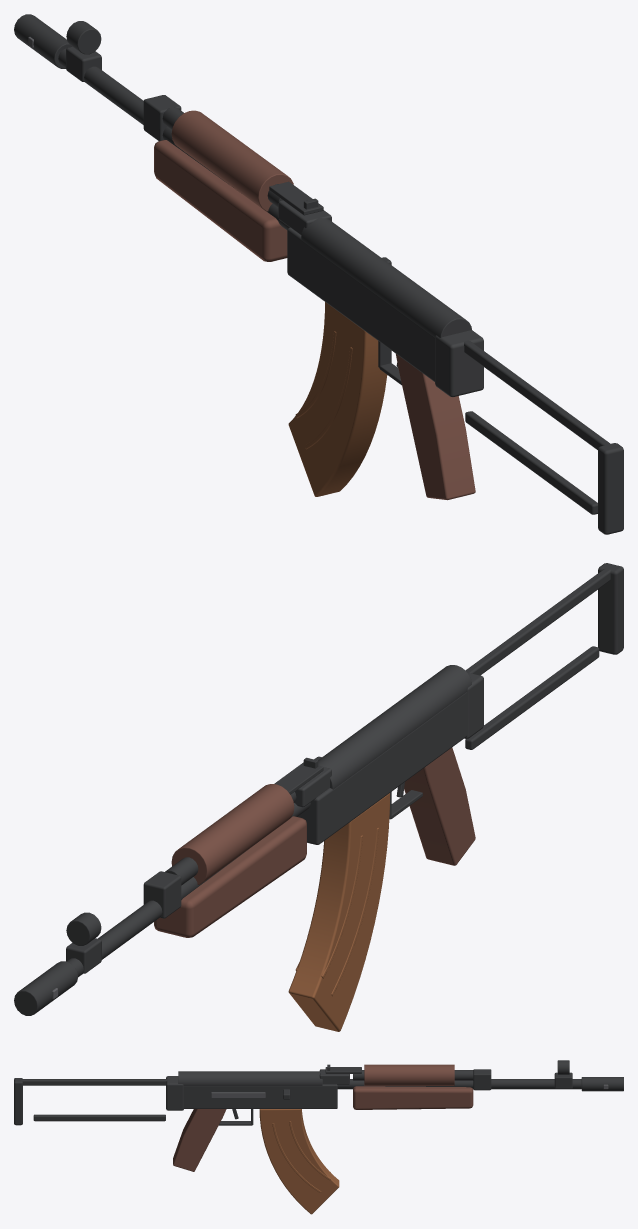
3 views of the same model, one above another, from view 1: azimuth 30°, elevation 25°; view 2: azimuth 150°, elevation 25°; view 3: azimuth 270°, elevation 25° (orthographic). The views are drawn at different scales.
Visible parts, largest first — view 1: Mag_body, Receiver, Grip, LowerHandguard, DustCover, UpperHandguard, RearTrunnion, FoldStockTop, FoldStockPad, FoldStockBottom, Barrel, MuzzleBrake (+5 smaller); view 2: Mag_body, Receiver, LowerHandguard, DustCover, Grip, UpperHandguard, FoldStockTop, FoldStockBottom, FoldStockPad, Barrel, MuzzleBrake, GasBlock (+5 smaller); view 3: Mag_body, Receiver, LowerHandguard, DustCover, UpperHandguard, Grip, Barrel, FoldStockBottom, FoldStockTop, MuzzleBrake, RearTrunnion, FoldStockPad (+7 smaller).
Part boxes in pixels (x1,y1,x2,y2): Mag_body: (288, 302, 387, 496); Receiver: (287, 227, 434, 381); Grip: (396, 354, 475, 500); LowerHandguard: (154, 140, 287, 261); DustCover: (301, 218, 471, 337); UpperHandguard: (171, 110, 293, 211); RearTrunnion: (435, 330, 483, 397); FoldStockTop: (464, 340, 610, 449); FoldStockPad: (598, 443, 623, 534); FoldStockBottom: (465, 411, 597, 514); Barrel: (58, 48, 289, 229); MuzzleBrake: (14, 14, 71, 68); Mag_body: (288, 793, 390, 1031); Receiver: (298, 692, 467, 844); LowerHandguard: (154, 816, 306, 937); DustCover: (318, 665, 471, 789); Grip: (404, 747, 475, 865); UpperHandguard: (171, 784, 294, 884); FoldStockTop: (466, 568, 611, 675); FoldStockBottom: (465, 646, 599, 749); FoldStockPad: (598, 563, 623, 654); Barrel: (67, 802, 310, 977); MuzzleBrake: (14, 961, 78, 1015); GasBlock: (143, 871, 181, 918); Mag_body: (259, 1109, 339, 1214); Receiver: (183, 1084, 337, 1108); LowerHandguard: (353, 1086, 473, 1109); DustCover: (178, 1071, 322, 1085); UpperHandguard: (364, 1064, 454, 1085); Grip: (173, 1109, 226, 1171); Barrel: (337, 1079, 581, 1089); FoldStockBottom: (33, 1114, 165, 1121); FoldStockTop: (21, 1079, 167, 1085); MuzzleBrake: (581, 1077, 623, 1091); RearTrunnion: (166, 1076, 183, 1110); FoldStockPad: (14, 1078, 22, 1125).
Size of the model in its own units: 0.0589 by 0.2757 by 1.01.
